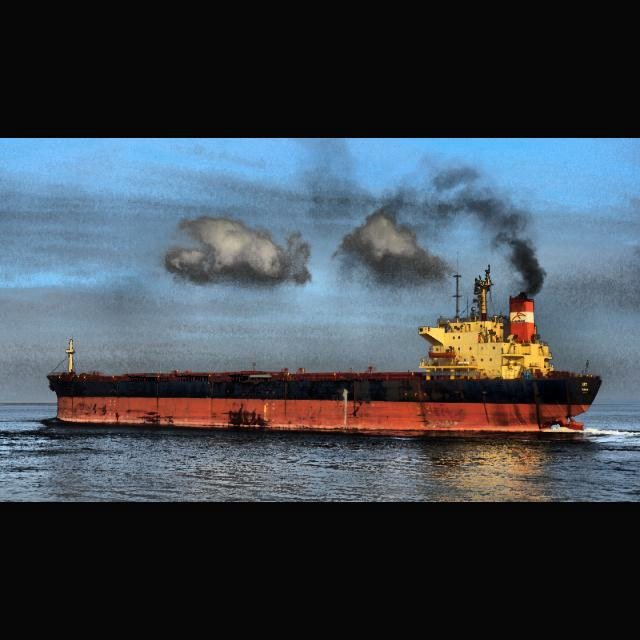bulk_carrier: (46, 287, 604, 437)
